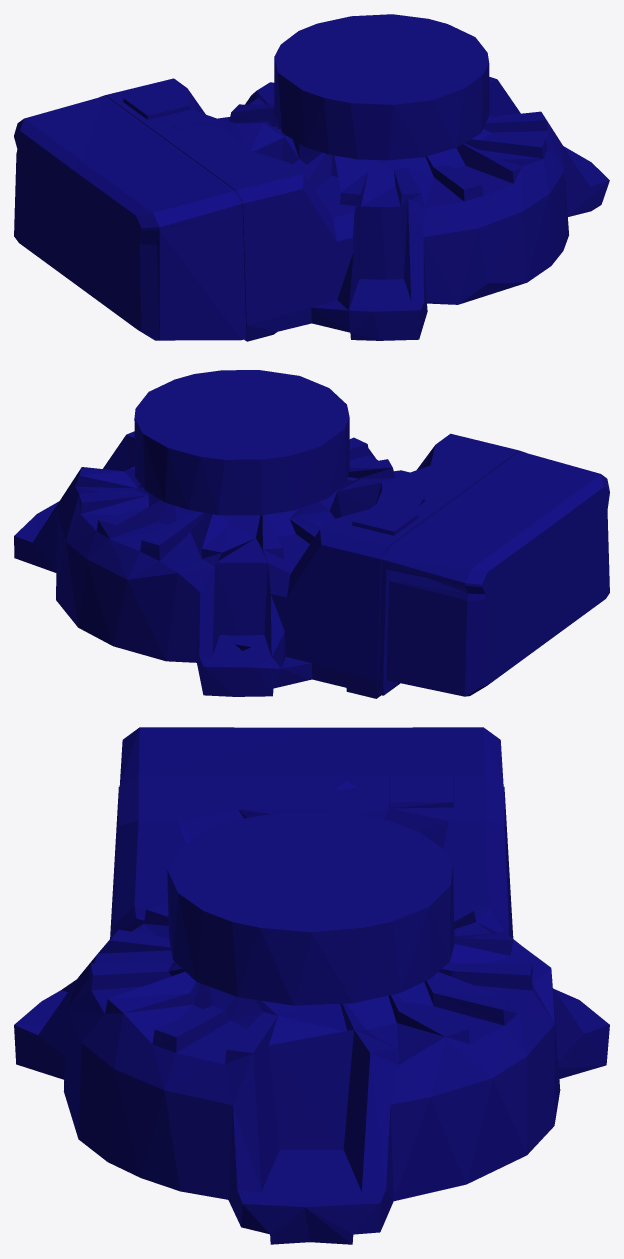
The model's file is ABBIRB2600Link0.dae.
3 renders of one model, top to bottom at view 1: azimuth 30°, elevation 25°; view 2: azimuth 150°, elevation 25°; view 3: azimuth 270°, elevation 25°, orthographic. The views are drawn at different scales.
Parts seen in each view (by area): view 1: link0; view 2: link0; view 3: link0.
Part boxes in pixels (x1,y1,x2,y2): link0: (14,14,609,341); link0: (14,370,609,698); link0: (14,727,609,1244).
Size of the model in its own units: 0.6795 by 0.5162 by 0.2301.
